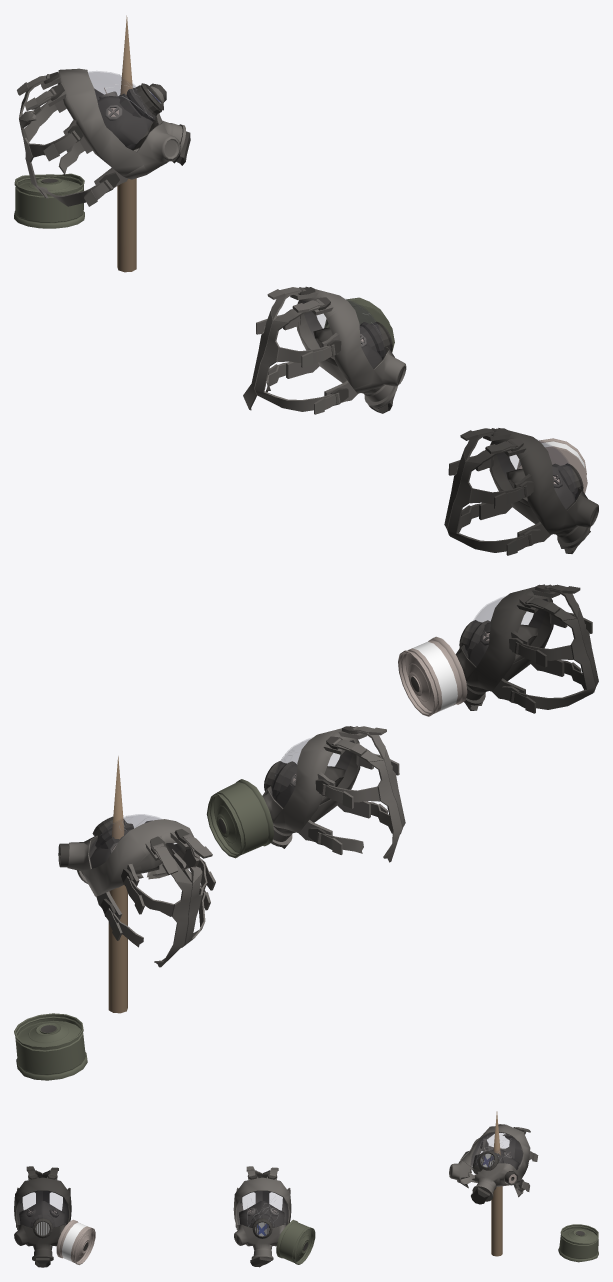
The model's file is GAS_MASK_TEST.fbx.
3 views of the same model, one above another, from view 1: azimuth 30°, elevation 25°; view 2: azimuth 150°, elevation 25°; view 3: azimuth 270°, elevation 25° (orthographic). The views are drawn at different scales.
Visible parts, largest first — view 1: pPlane1 (×3), polySurface28 (×3), pSphere1 (×3), pCylinder3 (×3), polySurface30 (×2), pCylinder9, pCylinder1 (×2), polySurface2; view 2: pPlane1 (×3), pCylinder3 (×3), polySurface28 (×3), pSphere1 (×3), pCylinder9, polySurface30 (×2), polySurface2 (×2), pCylinder1; view 3: pPlane1 (×3), pCylinder3 (×3), pSphere1 (×3), polySurface2 (×3), pCylinder1 (×3), pCylinder9, polySurface28 (×3).
Part boxes in pixels (box(x1,y1,x2,y2)): pPlane1 (×3): box(57, 68, 598, 548); polySurface28 (×3): box(19, 80, 526, 552); pSphere1 (×3): box(88, 71, 578, 508); pCylinder3 (×3): box(14, 173, 587, 493); polySurface30 (×2): box(256, 287, 529, 555); pCylinder9: box(117, 15, 136, 272); pCylinder1 (×2): box(118, 83, 392, 359); polySurface2: box(97, 96, 157, 150); pPlane1 (×3): box(67, 584, 553, 896); pCylinder3 (×3): box(14, 636, 467, 1080); polySurface28 (×3): box(112, 589, 598, 967); pSphere1 (×3): box(90, 597, 546, 867); pCylinder9: box(108, 756, 127, 1013); polySurface30 (×2): box(320, 584, 592, 854); polySurface2 (×2): box(90, 622, 538, 874); pCylinder1: box(264, 761, 297, 799); pPlane1 (×3): box(14, 1125, 530, 1261); pCylinder3 (×3): box(56, 1219, 598, 1264); pSphere1 (×3): box(17, 1133, 522, 1227); polySurface2 (×3): box(19, 1149, 519, 1227); pCylinder1 (×3): box(30, 1150, 503, 1238); pCylinder9: box(491, 1111, 502, 1256); polySurface28 (×3): box(28, 1129, 531, 1203).
Bounding box in the file's own units: 11.81 × 15.51 × 55.91.
